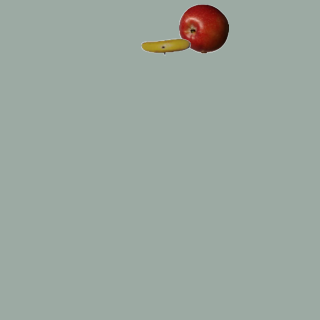Apple Braeburn: (178, 3, 228, 53)
Banana: (140, 21, 190, 71)
